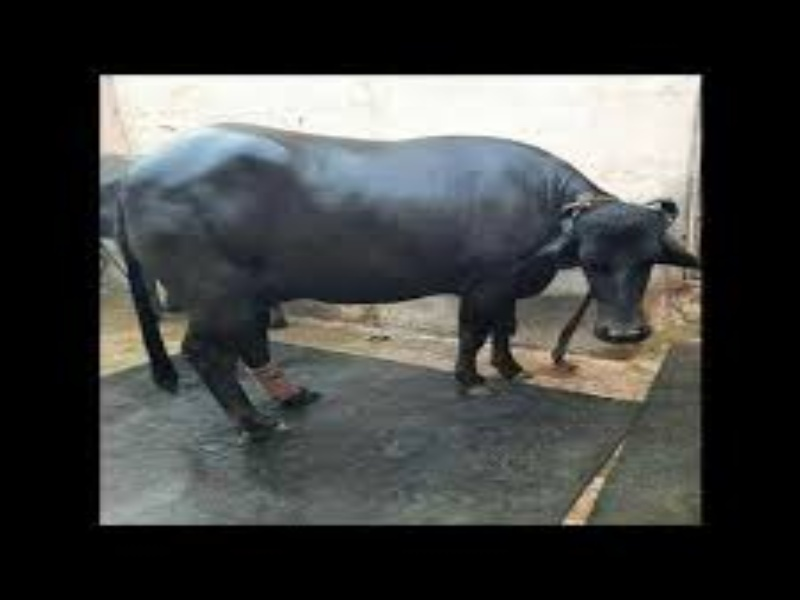buffalo: (109, 116, 686, 461)
